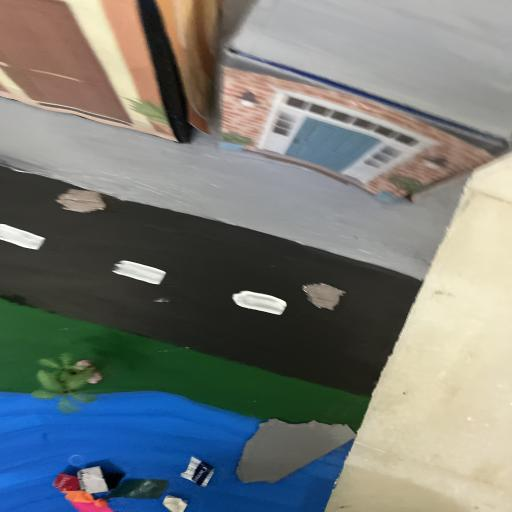encroachment: (231, 418, 354, 487)
porthole: (52, 186, 110, 214), (300, 282, 346, 312)
trash: (51, 452, 218, 512)
